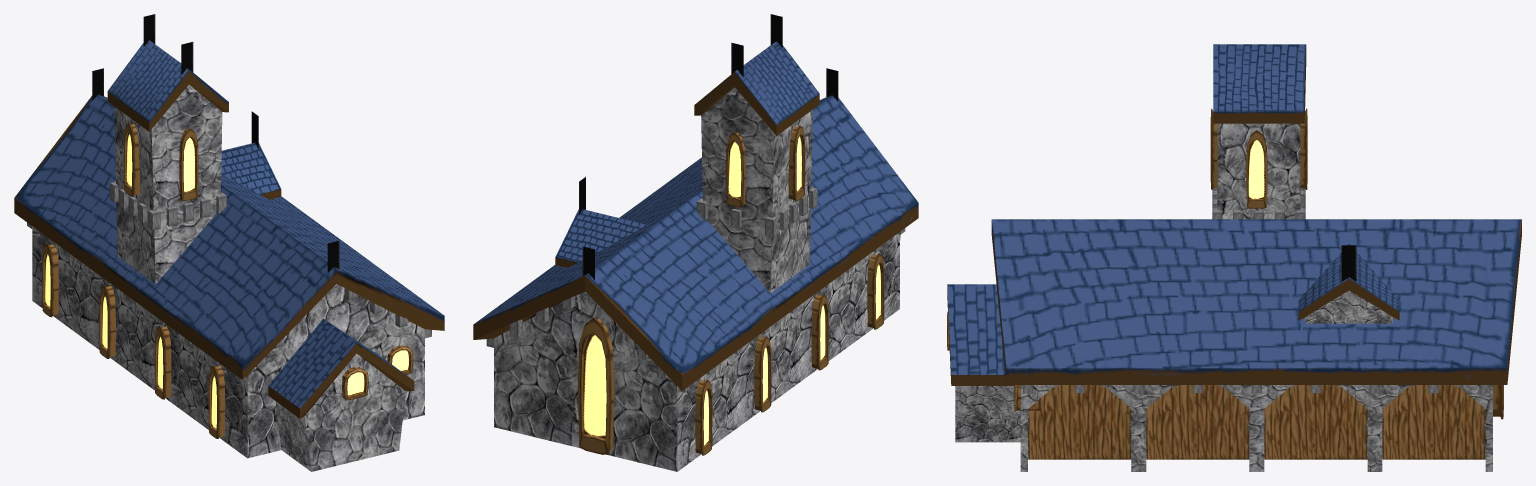
File: Barracks.fbx
The picture shows the model from 3 angles, left to right: view 1: azimuth 30°, elevation 25°; view 2: azimuth 150°, elevation 25°; view 3: azimuth 270°, elevation 25°; orthographic projection. The views are drawn at different scales.
Parts seen in each view (by area): view 1: polySurface145; view 2: polySurface145; view 3: polySurface145.
Boxes of the visible parts, box(x1,y1,x2,y2) form: polySurface145: box(14, 14, 444, 471); polySurface145: box(473, 14, 918, 471); polySurface145: box(947, 44, 1521, 471).
Bounding box in the file's own units: 2.74 × 4.44 × 6.16.
1 material, 1 textured.
